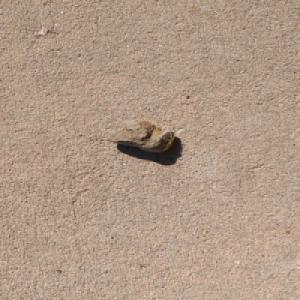Rock: (102, 117, 176, 153)
